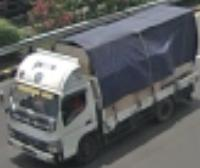truck: (1, 49, 108, 168)
